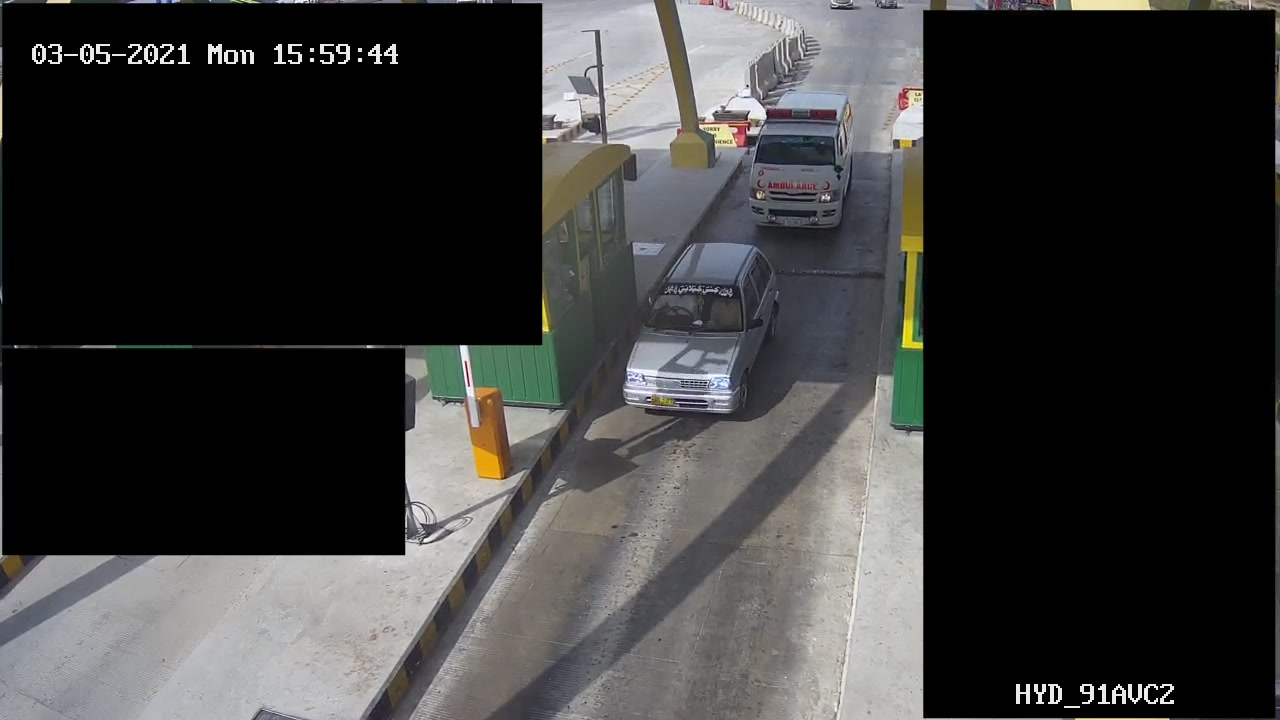F2: (735, 83, 861, 239)
